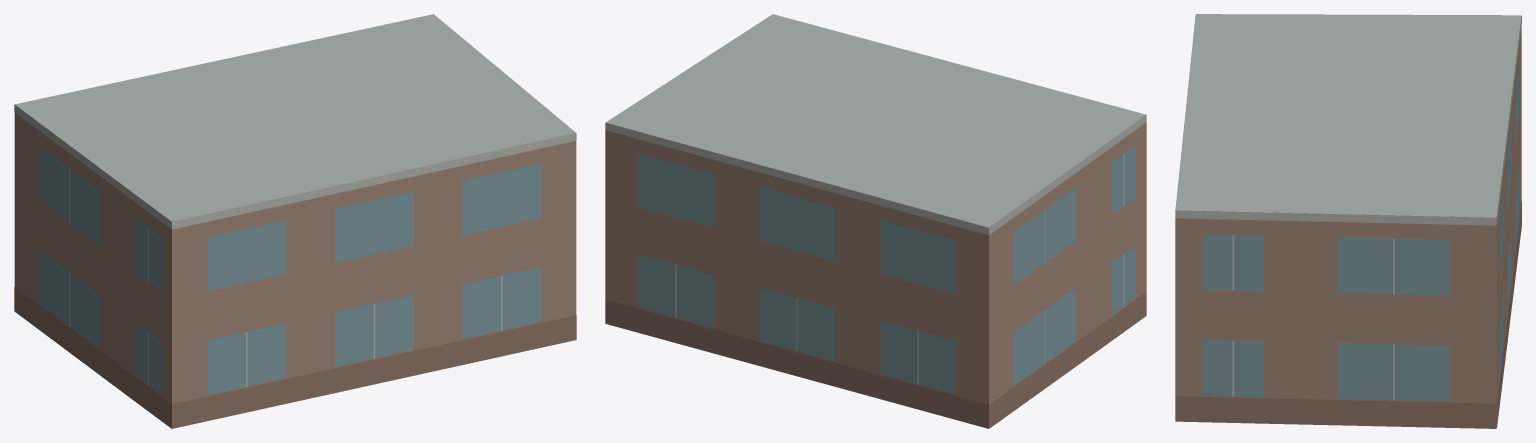
File: survey-upis-32495416.glb
3 views of the same model, side by side, from view 1: azimuth 30°, elevation 25°; view 2: azimuth 150°, elevation 25°; view 3: azimuth 270°, elevation 25° (orthographic). The views are drawn at different scales.
Parts seen in each view (by area): view 1: survey-upis-32495416.tmp; view 2: survey-upis-32495416.tmp; view 3: survey-upis-32495416.tmp.
Boxes of the visible parts, x1=… form: survey-upis-32495416.tmp: x1=14, y1=14, x2=576, y2=428; survey-upis-32495416.tmp: x1=605, y1=14, x2=1146, y2=428; survey-upis-32495416.tmp: x1=1175, y1=14, x2=1521, y2=428.
Bounding box in the file's own units: 13.46 × 6.5 × 9.68.
